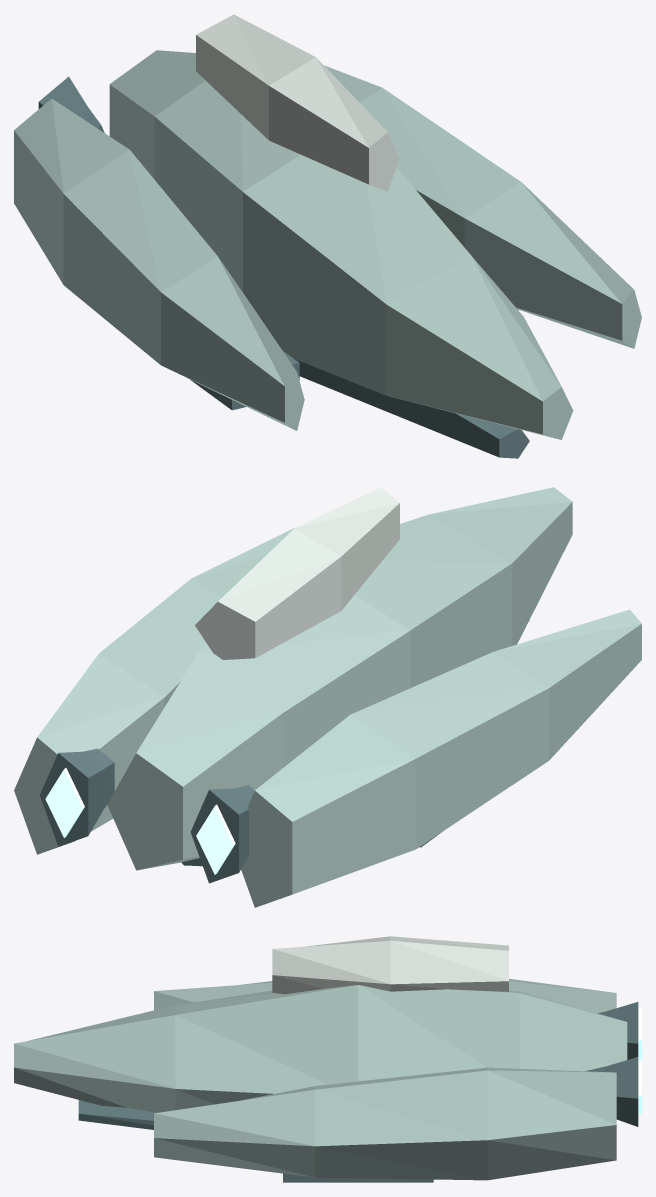
The picture shows the model from 3 angles, top to bottom: view 1: azimuth 30°, elevation 25°; view 2: azimuth 150°, elevation 25°; view 3: azimuth 270°, elevation 25°; orthographic projection. The views are drawn at different scales.
Size of the model in its own units: 6.01 by 4.17 by 11.14.
